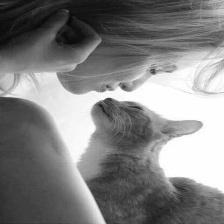kedo: (80, 97, 224, 224)
